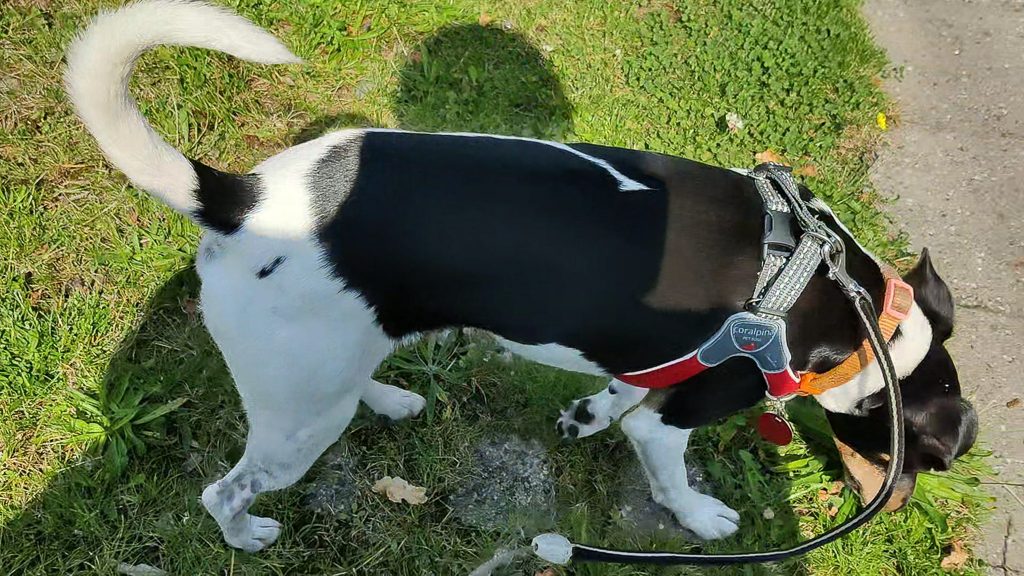Dog: (55, 0, 998, 560)
